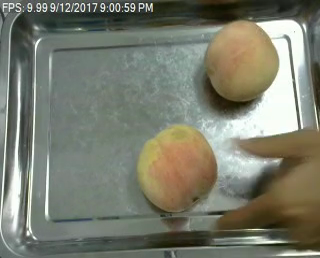Peach: (137, 123, 217, 213), (203, 19, 279, 102)
